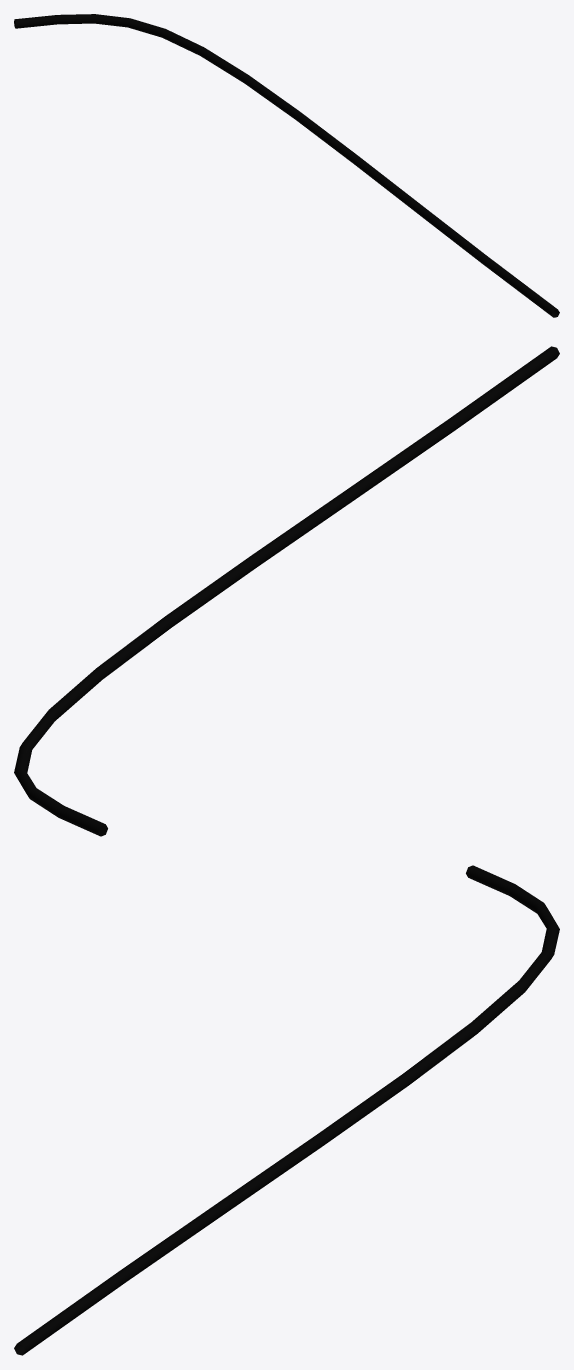
File: SM_Stage_Final_Wire_botton_06.fbx
The picture shows the model from 3 angles, top to bottom: view 1: azimuth 30°, elevation 25°; view 2: azimuth 150°, elevation 25°; view 3: azimuth 330°, elevation 25°; orthographic projection. The views are drawn at different scales.
Visible parts, largest first — view 1: SM_Stage_Final_Wire_botton_06; view 2: SM_Stage_Final_Wire_botton_06; view 3: SM_Stage_Final_Wire_botton_06.
Part boxes in pixels (x1,y1,x2,y2): SM_Stage_Final_Wire_botton_06: [14, 14, 559, 317]; SM_Stage_Final_Wire_botton_06: [14, 346, 559, 836]; SM_Stage_Final_Wire_botton_06: [14, 865, 559, 1355].
Bounding box in the file's own units: 29.8 × 1.73 × 182.
Materials: 1 (1 with a texture image).
